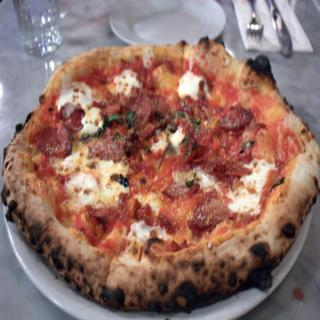Pizza: (0, 34, 320, 314)
